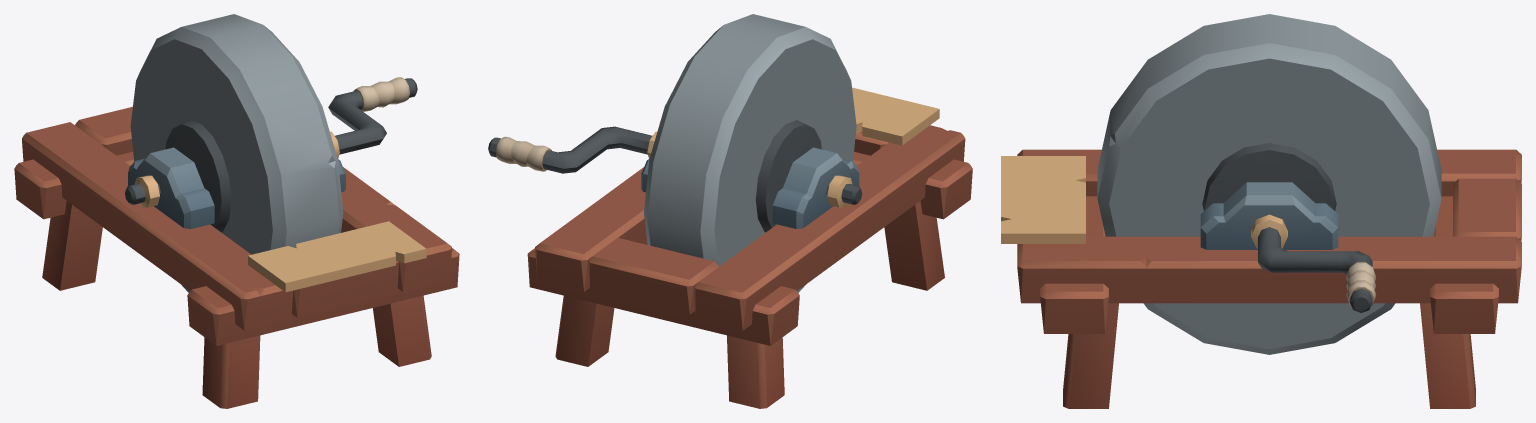
The model's file is grindstone.glb.
The picture shows the model from 3 angles, left to right: view 1: azimuth 30°, elevation 25°; view 2: azimuth 150°, elevation 25°; view 3: azimuth 270°, elevation 25°; orthographic projection. The views are drawn at different scales.
Visible parts, largest first — view 1: grindstone, grindstone_wheel; view 2: grindstone, grindstone_wheel; view 3: grindstone_wheel, grindstone.
Part boxes in pixels (box(x1,y1,x2,y2)): grindstone: box(14, 106, 459, 408); grindstone_wheel: box(125, 14, 417, 292); grindstone: box(527, 87, 972, 408); grindstone_wheel: box(488, 14, 862, 292); grindstone_wheel: box(1097, 14, 1441, 354); grindstone: box(1001, 149, 1521, 408).
Size of the model in its own units: 1.94 by 1.55 by 2.27.
1 material, 1 textured.
